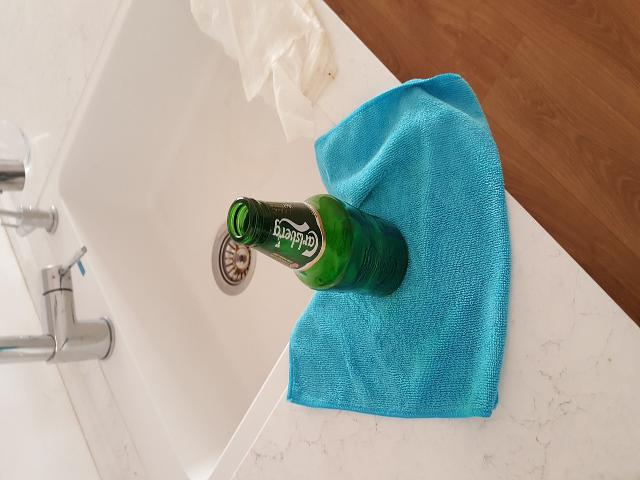beer: (229, 193, 411, 294)
